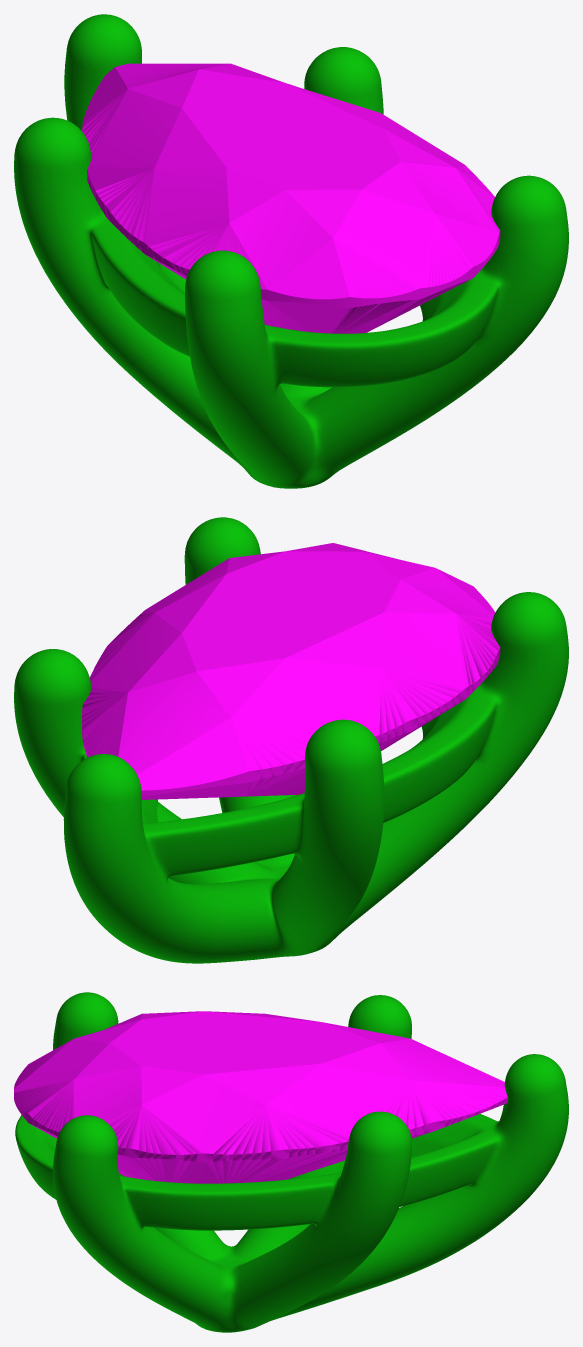
The picture shows the model from 3 angles, top to bottom: view 1: azimuth 30°, elevation 25°; view 2: azimuth 150°, elevation 25°; view 3: azimuth 270°, elevation 25°; orthographic projection. The views are drawn at different scales.
Parts seen in each view (by area): view 1: Metal01, Diamond _Pear; view 2: Metal01, Diamond _Pear; view 3: Metal01, Diamond _Pear.
Boxes of the visible parts, left/top/right/bottom form: Metal01: left=14, top=14, right=568, bottom=488; Diamond _Pear: left=82, top=63, right=500, bottom=333; Metal01: left=14, top=517, right=568, bottom=963; Diamond _Pear: left=82, top=543, right=500, bottom=799; Metal01: left=15, top=992, right=568, bottom=1332; Diamond _Pear: left=14, top=1011, right=507, bottom=1183.
Bounding box in the file's own units: 7.27 × 6.25 × 11.37.
